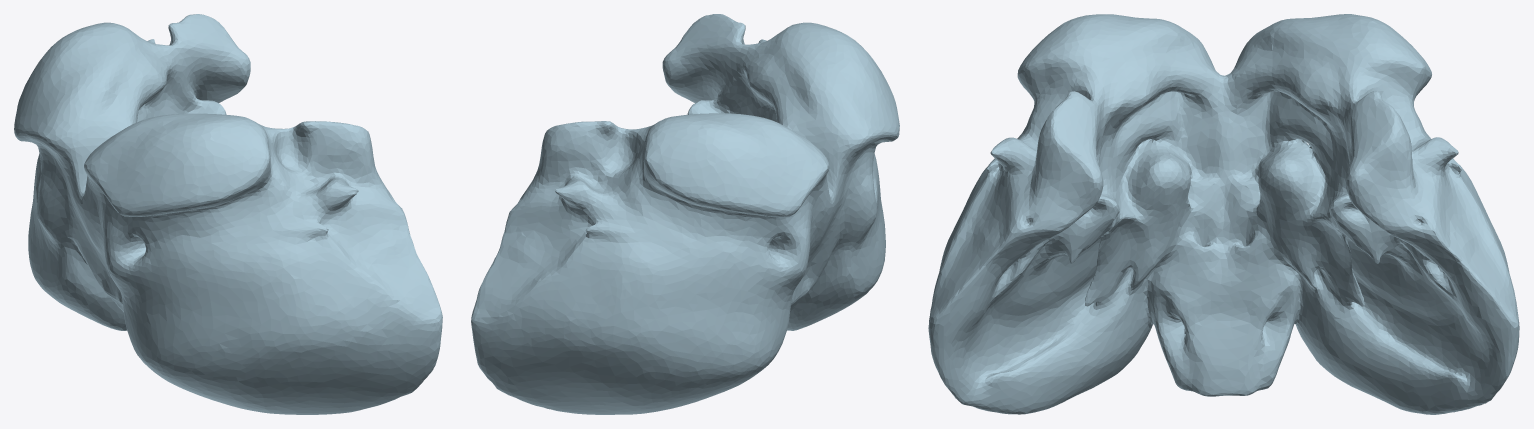
The picture shows the model from 3 angles, left to right: view 1: azimuth 30°, elevation 25°; view 2: azimuth 150°, elevation 25°; view 3: azimuth 270°, elevation 25°; orthographic projection. The views are drawn at different scales.
Visible parts, largest first — view 1: 623.obj; view 2: 623.obj; view 3: 623.obj.
Part boxes in pixels (<box>): 623.obj: <box>14,14,442,414</box>; 623.obj: <box>471,14,899,414</box>; 623.obj: <box>928,14,1519,414</box>.
Bounding box in the file's own units: 4382 × 4986 × 7888.
